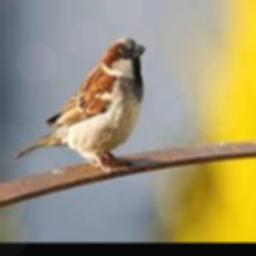Sparrow: (14, 37, 146, 173)
